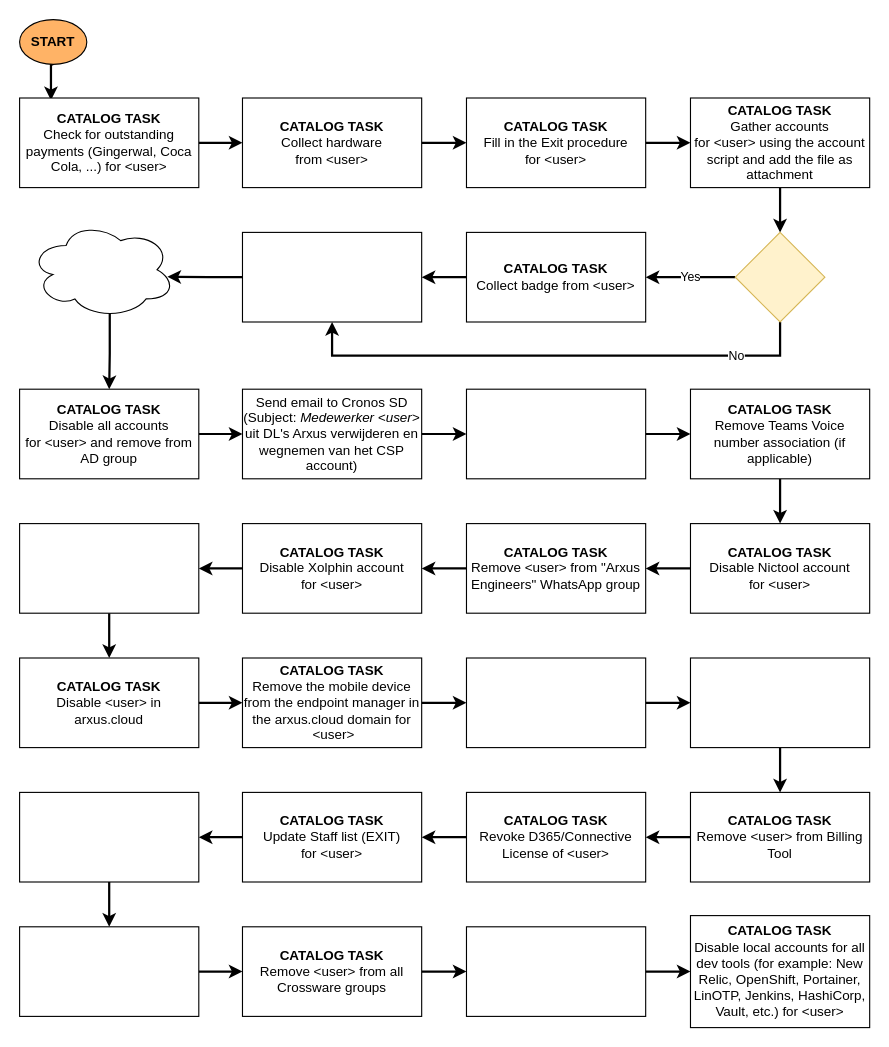
Some shapes in this 889 by 1047 pixel diagram are drawn without their labels. The box of each missing label's shape, as (x1, y1, x2, y2) in pixels:
24 hours after End Date: (29, 220, 175, 318)
CATALOG TASK [AUTOMATED] Deactivate badges in ServiceNow for <user>: (241, 231, 422, 322)
CATALOG TASK Disable Opsgenie account for <user>: (18, 522, 199, 613)
CATALOG TASK Disable TeamViewer account for <user>: (465, 388, 646, 479)
CATALOG TASK Remove <user> from Arxus Calendar: (689, 657, 870, 748)
CATALOG TASK Remove <user> from Arxus Sharepoint: (465, 657, 646, 748)
CATALOG TASK Remove <user> from Slack: (18, 791, 199, 882)
CATALOG TASK Remove <user> from WhatsApp: (18, 926, 199, 1016)
CATALOG TASK Remove CSP Partner Center access for <user>: (465, 926, 646, 1016)
User has badges: (734, 231, 825, 322)
